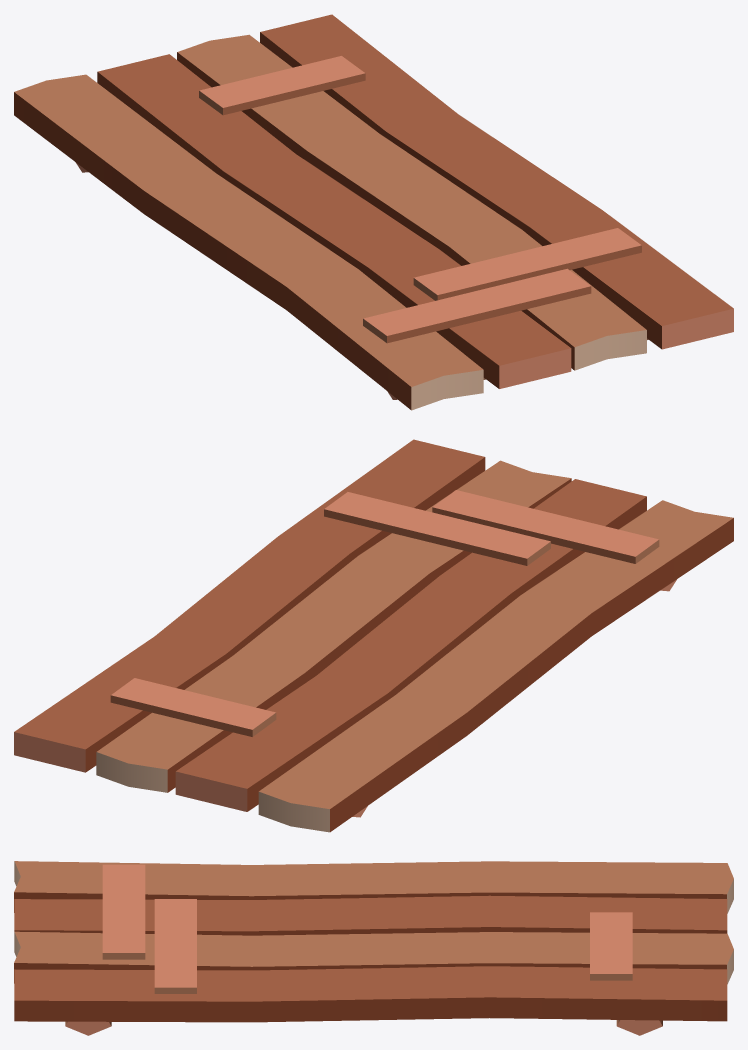
The model's file is woodboard1.FBX.
3 renders of one model, top to bottom at view 1: azimuth 30°, elevation 25°; view 2: azimuth 150°, elevation 25°; view 3: azimuth 270°, elevation 25°, orthographic. The views are drawn at different scales.
Visible parts, largest first — view 1: Box006; view 2: Box006; view 3: Box006.
Part boxes in pixels (x1,y1,x2,y2): Box006: [14, 14, 733, 410]; Box006: [14, 439, 733, 832]; Box006: [14, 861, 733, 1035].
Bounding box in the file's own units: 101 × 17.14 × 219.
